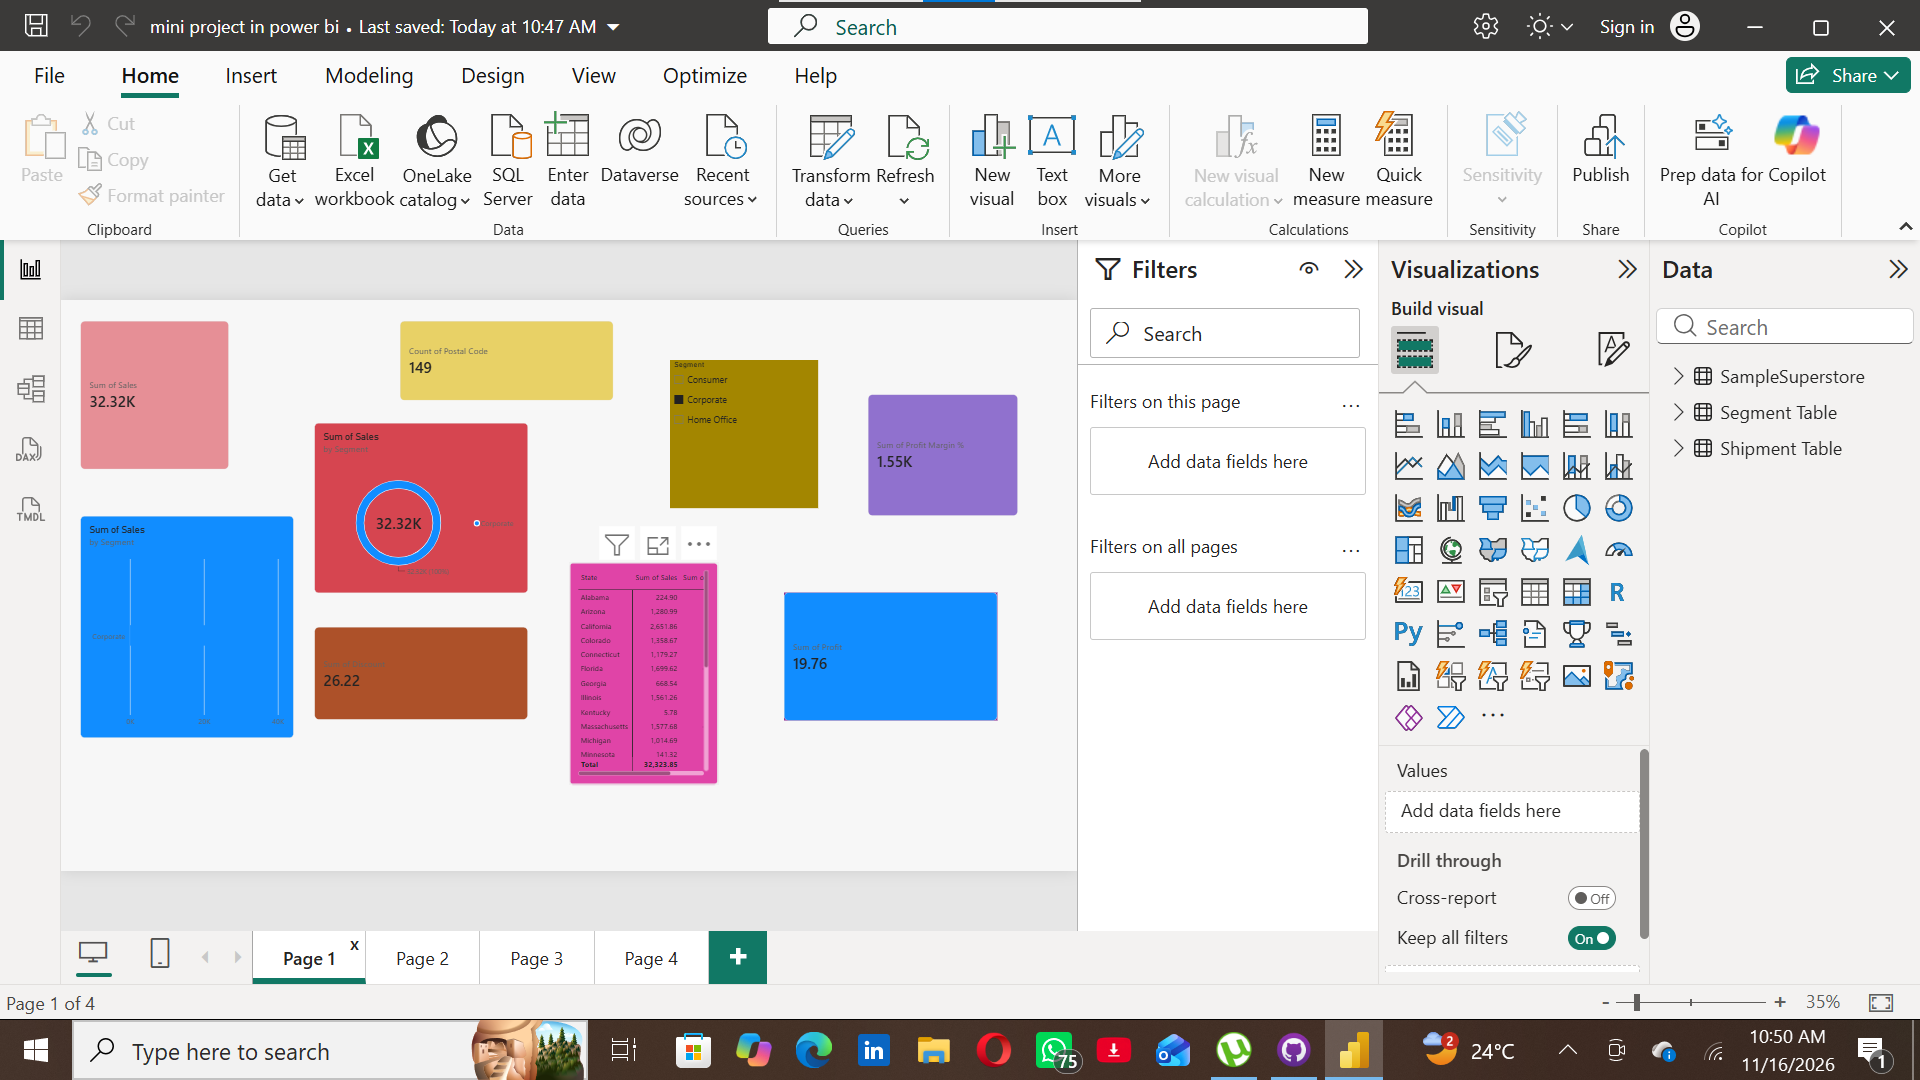

The dashboard page shown, as its layout file describes it:
{"tool":"powerbi","page":{"name":"Page 1","canvas":[1920,1080],"ordinal":0},"visuals":[{"type":"cardVisual","fields":{"Data":["Sum(SampleSuperstore.Sales)"]},"box":[36.9,39.7,280,280],"z":0},{"type":"clusteredBarChart","fields":{"Category":["Segment Table.Segment"],"Y":["Sum(SampleSuperstore.Sales)"]},"box":[36.9,408.2,402.5,419.5],"z":1000},{"type":"donutChart","fields":{"Category":["Segment Table.Segment"],"Y":["Sum(SampleSuperstore.Sales)"]},"box":[479.1,232.4,403,321],"z":2000},{"type":"cardVisual","fields":{"Data":["Sum(SampleSuperstore.Profit)"]},"box":[1366.3,552.8,403,242],"z":3000},{"type":"cardVisual","fields":{"Data":["Sum(SampleSuperstore.Discount)"]},"box":[479.1,618,403,175],"z":4000},{"type":"slicer","fields":{"Values":["Segment Table.Segment"]},"box":[1150.9,113.4,280,280],"z":5000},{"type":"pivotTable","fields":{"Rows":["SampleSuperstore.State"],"Values":["Sum(SampleSuperstore.Sales)","Sum(SampleSuperstore.Profit)"]},"box":[961,496.1,280,420],"z":6000},{"type":"cardVisual","fields":{"Data":["CountNonNull(SampleSuperstore.Postal Code)"]},"box":[640.6,39.7,403,150],"z":7000},{"type":"cardVisual","fields":{"Data":["Sum(SampleSuperstore.Profit Margin %)"]},"box":[1525.1,178.6,283.5,229.6],"z":8000}]}

Visuals, with their boxes on the page's 1920x1080 design canvas (x1, y1, x2, y2). These are canvas units, not pixel positions in the 1920x1080 screenshot, which may show the page scaled, cropped or inside an application window:
cardVisual - Sum(SampleSuperstore.Sales): detection(37, 40, 317, 320)
clusteredBarChart - Segment Table.Segment x Sum(SampleSuperstore.Sales): detection(37, 408, 439, 828)
donutChart - Segment Table.Segment x Sum(SampleSuperstore.Sales): detection(479, 232, 882, 553)
cardVisual - Sum(SampleSuperstore.Profit): detection(1366, 553, 1769, 795)
cardVisual - Sum(SampleSuperstore.Discount): detection(479, 618, 882, 793)
slicer - Segment Table.Segment: detection(1151, 113, 1431, 393)
pivotTable - SampleSuperstore.State x Sum(SampleSuperstore.Sales): detection(961, 496, 1241, 916)
cardVisual - CountNonNull(SampleSuperstore.Postal Code): detection(641, 40, 1044, 190)
cardVisual - Sum(SampleSuperstore.Profit Margin %): detection(1525, 179, 1809, 408)
